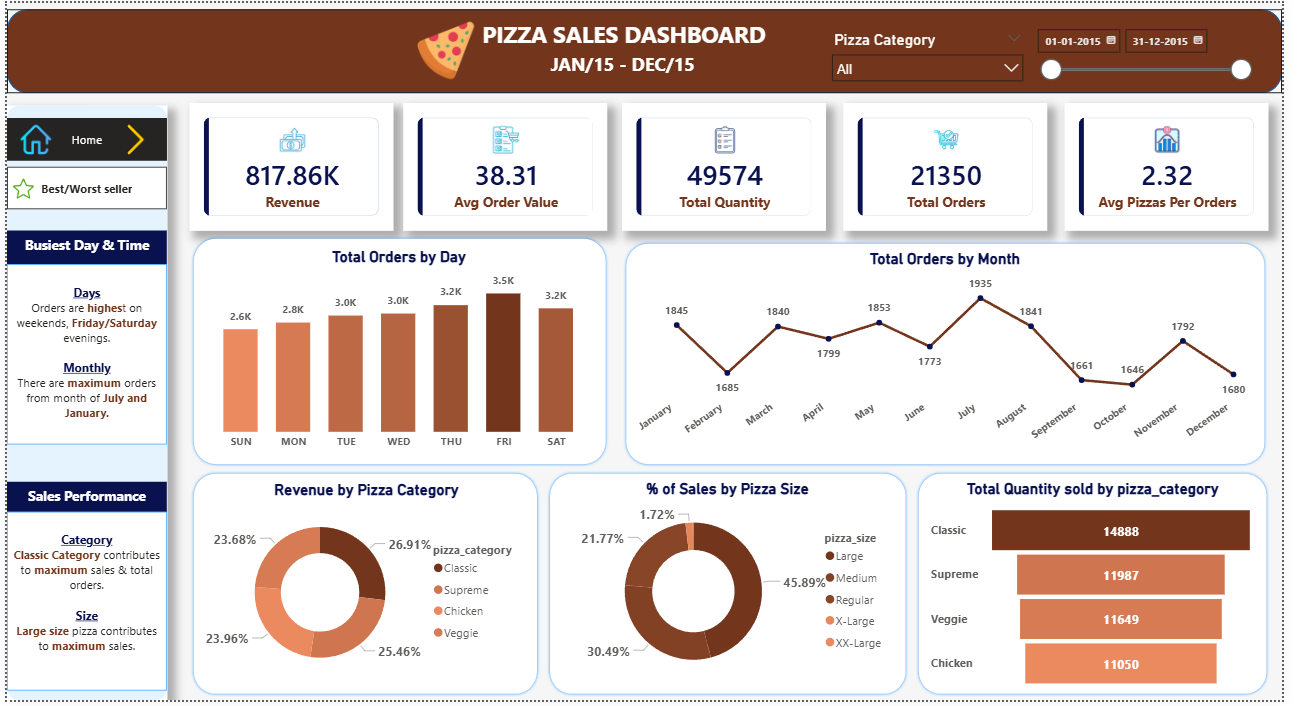

The page's visual inventory and layout, read from the dashboard file:
{"tool":"powerbi","page":{"name":"Home","canvas":[1500,820],"ordinal":0},"visuals":[{"type":"cardVisual","fields":{"Data":["pizza_sales.Revenue"]},"box":[215.4,117.2,240,150],"z":0},{"type":"cardVisual","fields":{"Data":["pizza_sales.Avg Order Value"]},"box":[466.9,117.2,240,150],"z":1000},{"type":"cardVisual","fields":{"Data":["pizza_sales.Total Quantity"]},"box":[724,117.2,240,150],"z":2000},{"type":"cardVisual","fields":{"Data":["pizza_sales.Total Orders"]},"box":[983.8,117.5,240,150],"z":3000},{"type":"cardVisual","fields":{"Data":["pizza_sales.Avg Pizzas Per Orders"]},"box":[1244,117.2,240,150],"z":4000},{"type":"shape","box":[0,7.5,1500,98.8],"z":5000},{"type":"textbox","box":[547.5,13.8,357.5,47.5],"z":6000},{"type":"textbox","box":[608.8,51.2,231.2,40],"z":7000},{"type":"image","box":[466.2,21.2,100,70],"z":8000},{"type":"shape","box":[215.5,273.6,491.8,272.7],"z":9000},{"type":"columnChart","title":"Total Orders by Day ","fields":{"Category":["pizza_sales.Day Name"],"Y":["pizza_sales.Total Orders"]},"box":[225,288.8,472.5,246.2],"z":10000},{"type":"shape","box":[725.6,280,758.1,266.9],"z":11000},{"type":"areaChart","fields":{"Category":["pizza_sales.order_date.Variation.Date Hierarchy.Month"],"Y":["pizza_sales.Total Orders"]},"box":[735.8,289.2,736.7,241.7],"z":12000},{"type":"shape","box":[216.9,550.4,410.9,266.4],"z":13000},{"type":"shape","box":[1068.7,550.4,416.4,266.4],"z":14000},{"type":"shape","box":[635.1,550.4,425.5,266.4],"z":15000},{"type":"donutChart","title":"Revenue by Pizza Category","fields":{"Category":["pizza_sales.pizza_category"],"Y":["pizza_sales.Revenue"]},"box":[231.1,561.6,384.2,247.4],"z":16000},{"type":"donutChart","title":"% of Sales by Pizza Size","fields":{"Y":["pizza_sales.Revenue"],"Category":["pizza_sales.pizza_size"]},"box":[649.2,560,398.3,247.5],"z":17000},{"type":"funnel","title":"Total Quantity sold by pizza_category","fields":{"Y":["pizza_sales.Total Quantity"],"Category":["pizza_sales.pizza_category"]},"box":[1082.5,560,390,250],"z":18000},{"type":"shape","box":[0,120,188.6,700],"z":19000},{"type":"textbox","box":[0.6,598.2,188.2,210],"z":20000},{"type":"textbox","box":[0.6,563.5,188.2,35.3],"z":21000},{"type":"textbox","box":[0,267.3,188.2,42.7],"z":22000},{"type":"textbox","box":[0,306.7,188.3,211.7],"z":23000},{"type":"slicer","fields":{"Values":["pizza_sales.pizza_category"]},"box":[960,27.5,245,78.8],"z":24000},{"type":"slicer","fields":{"Values":["pizza_sales.order_date"]},"box":[1200,21,273,79],"z":25000},{"type":"pageNavigator","box":[0,135.7,188.6,50],"z":25001},{"type":"pageNavigator","box":[0,192.9,188.6,50],"z":25002},{"type":"image","box":[120,143,61,36],"z":25003},{"type":"image","box":[8.8,142.5,50,36.2],"z":25004},{"type":"image","box":[3,206,33,25],"z":25005}]}

Visuals, with their boxes in screenshot pixels (x1, y1, x2, y2), scaled from the page's 1500x820 canvas onto the 1300x706 screenshot:
cardVisual - pizza_sales.Revenue: [187, 101, 395, 230]
cardVisual - pizza_sales.Avg Order Value: [405, 101, 613, 230]
cardVisual - pizza_sales.Total Quantity: [627, 101, 835, 230]
cardVisual - pizza_sales.Total Orders: [853, 101, 1061, 230]
cardVisual - pizza_sales.Avg Pizzas Per Orders: [1078, 101, 1286, 230]
shape: [0, 6, 1299, 92]
textbox: [474, 12, 784, 53]
textbox: [528, 44, 728, 79]
image: [404, 18, 491, 79]
shape: [187, 236, 613, 470]
"Total Orders by Day " columnChart: [195, 249, 604, 461]
shape: [629, 241, 1286, 471]
areaChart - pizza_sales.order_date.Variation.Date Hierarchy.Month x pizza_sales.Total Orders: [638, 249, 1276, 457]
shape: [188, 474, 544, 703]
shape: [926, 474, 1287, 703]
shape: [550, 474, 919, 703]
"Revenue by Pizza Category" donutChart: [200, 484, 533, 697]
"% of Sales by Pizza Size" donutChart: [563, 482, 908, 695]
"Total Quantity sold by pizza_category" funnel: [938, 482, 1276, 697]
shape: [0, 103, 163, 705]
textbox: [1, 515, 164, 696]
textbox: [1, 485, 164, 516]
textbox: [0, 230, 163, 267]
textbox: [0, 264, 163, 446]
slicer - pizza_sales.pizza_category: [832, 24, 1044, 92]
slicer - pizza_sales.order_date: [1040, 18, 1277, 86]
pageNavigator: [0, 117, 163, 160]
pageNavigator: [0, 166, 163, 209]
image: [104, 123, 157, 154]
image: [8, 123, 51, 154]
image: [3, 177, 31, 199]
